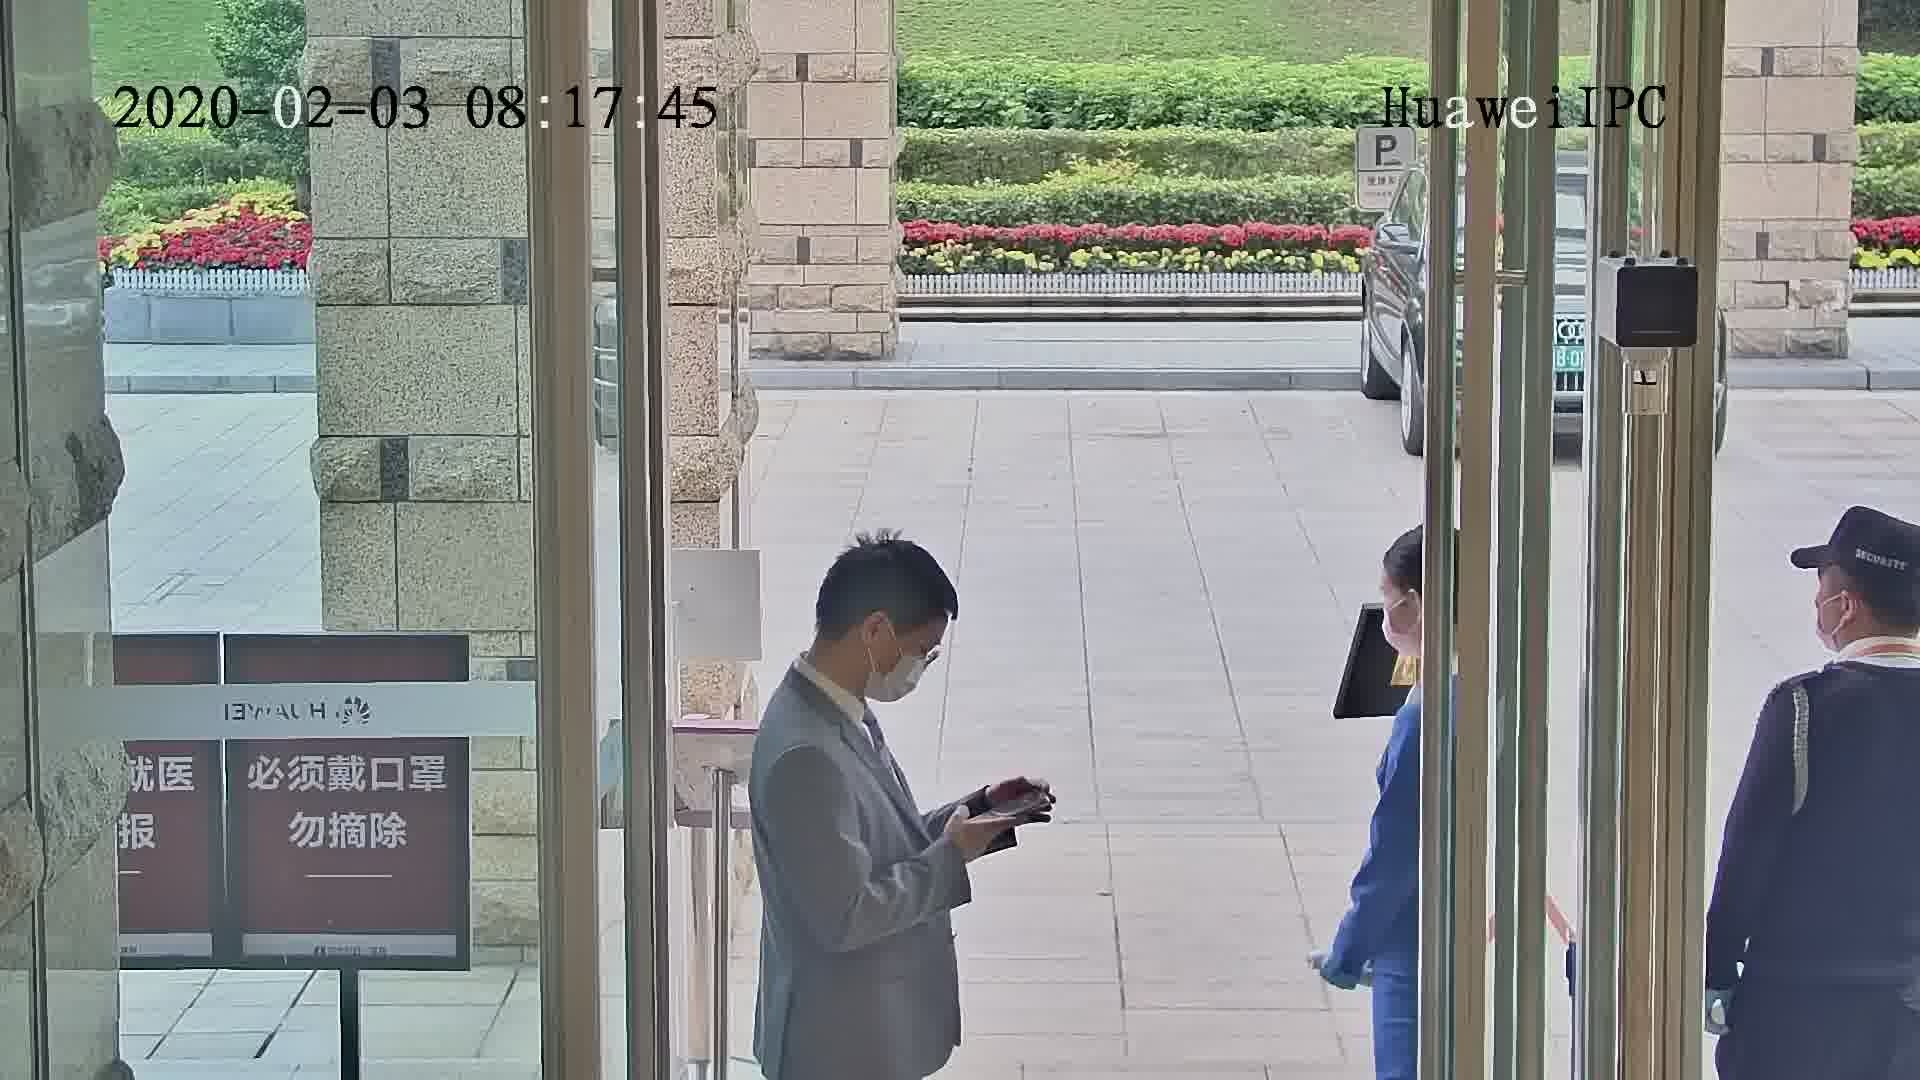face: (867, 618, 943, 709), (1374, 562, 1416, 655)
mask: (869, 640, 931, 704), (1378, 604, 1414, 658)
person: (770, 509, 974, 792), (1741, 505, 1919, 779)
